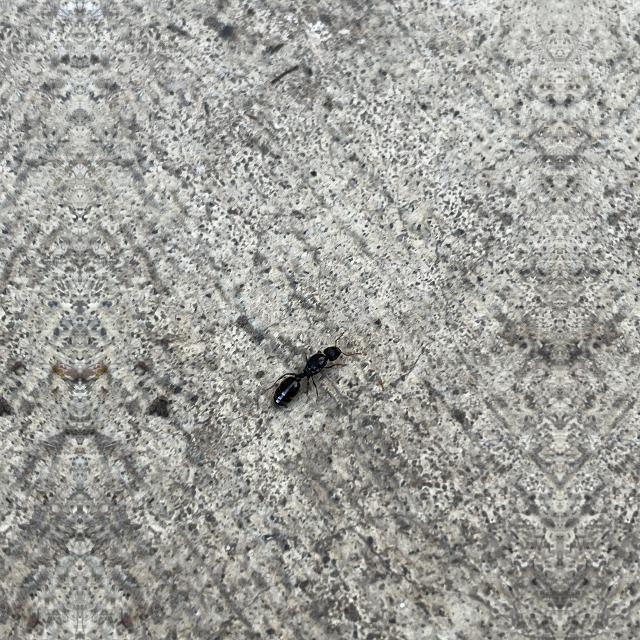Tetramorium: (258, 334, 350, 416)
